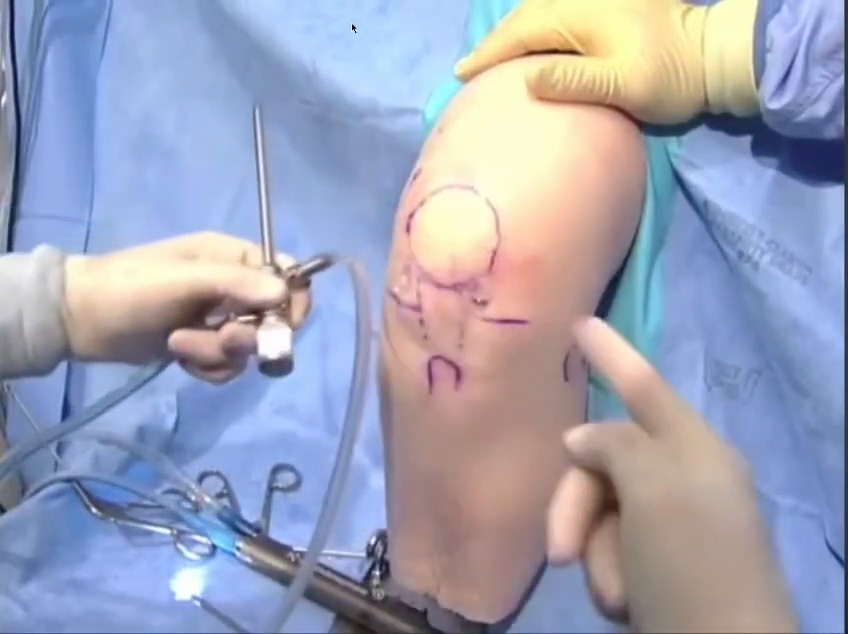arthroscope: (133, 145, 424, 593), (645, 0, 848, 155)
probe: (784, 170, 848, 573), (668, 157, 808, 319), (158, 460, 251, 532)
